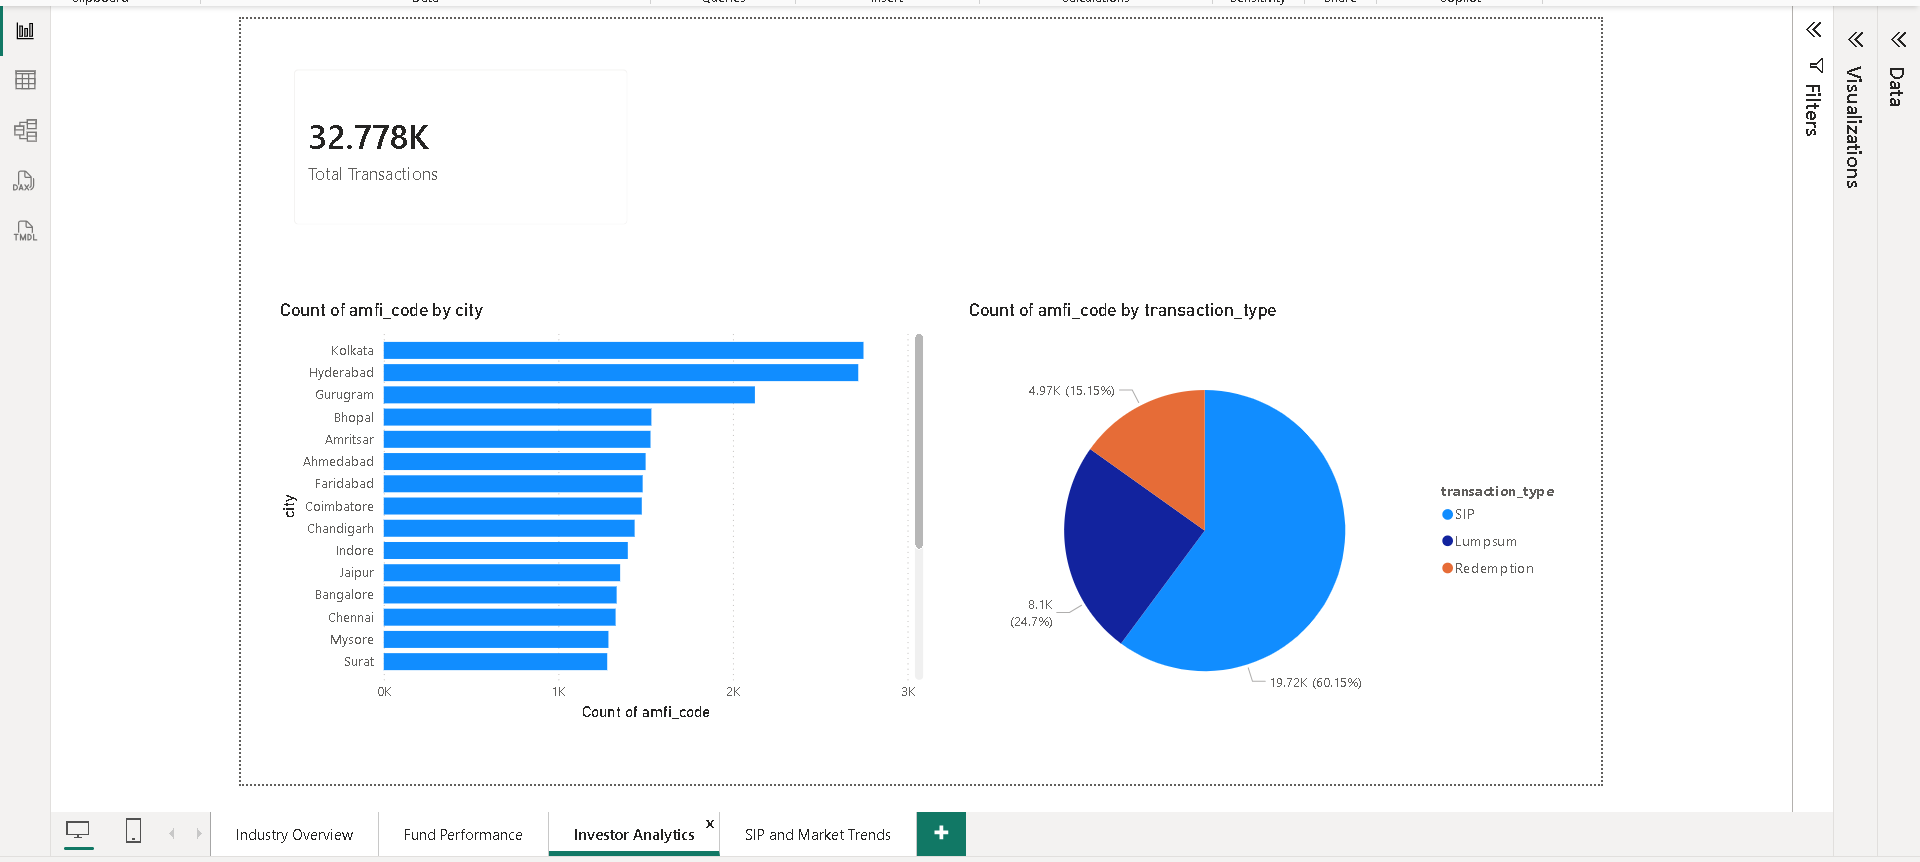

This screenshot's page, from the dashboard's own definition file:
{"tool":"powerbi","page":{"name":"Investor Analytics","canvas":[1280,720],"ordinal":2},"visuals":[{"type":"cardVisual","fields":{"Data":["CountNonNull(clean_investor_transactions.amfi_code)"]},"box":[32.9,30,348.6,180],"z":0},{"type":"pieChart","fields":{"Category":["clean_investor_transactions.transaction_type"],"Y":["CountNonNull(clean_investor_transactions.amfi_code)"]},"box":[679.4,264,571.4,417.1],"z":1000},{"type":"clusteredBarChart","fields":{"Category":["clean_investor_transactions.city"],"Y":["CountNonNull(clean_investor_transactions.amfi_code)"]},"box":[32.3,264,615.7,401.4],"z":2000}]}

Visuals, with their boxes on the page's 1280x720 design canvas (x1, y1, x2, y2). These are canvas units, not pixel positions in the 1920x862 screenshot, which may show the page scaled, cropped or inside an application window:
cardVisual - CountNonNull(clean_investor_transactions.amfi_code): box=[33, 30, 382, 210]
pieChart - clean_investor_transactions.transaction_type x CountNonNull(clean_investor_transactions.amfi_code): box=[679, 264, 1251, 681]
clusteredBarChart - clean_investor_transactions.city x CountNonNull(clean_investor_transactions.amfi_code): box=[32, 264, 648, 665]
